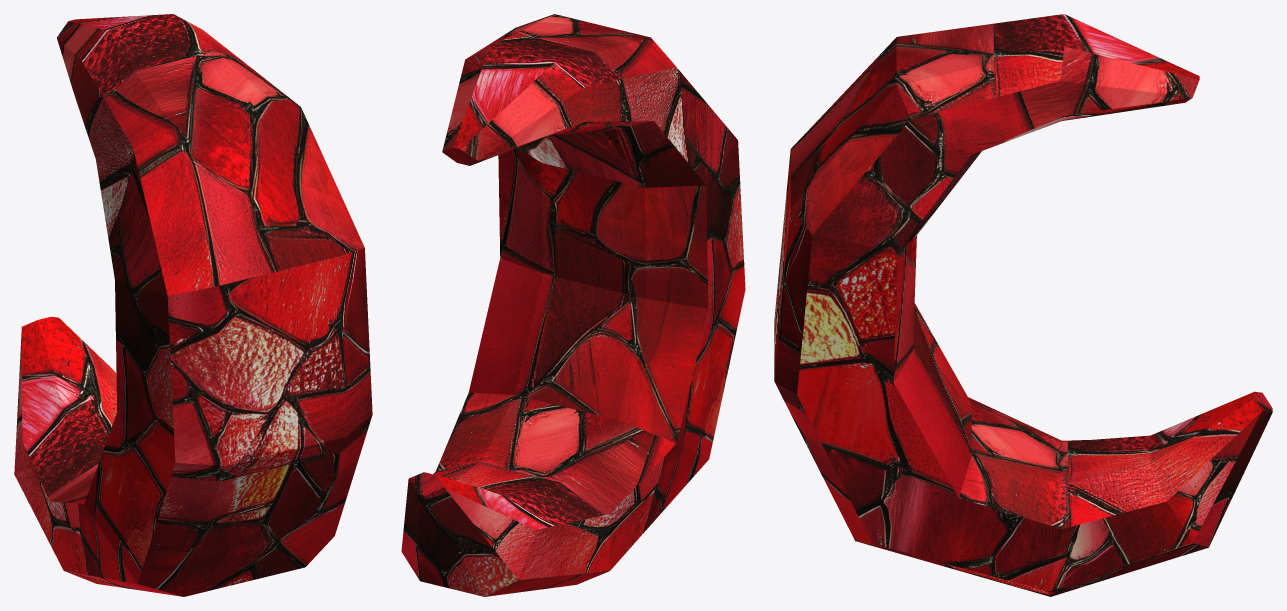
The model's file is gemstone9Red.glb.
The picture shows the model from 3 angles, left to right: view 1: azimuth 30°, elevation 25°; view 2: azimuth 150°, elevation 25°; view 3: azimuth 270°, elevation 25°; orthographic projection. The views are drawn at different scales.
Visible parts, largest first — view 1: gemstoneMoon; view 2: gemstoneMoon; view 3: gemstoneMoon.
Boxes of the visible parts, left/top/right/bottom form: gemstoneMoon: left=14, top=14, right=372, bottom=596; gemstoneMoon: left=401, top=14, right=745, bottom=596; gemstoneMoon: left=774, top=14, right=1272, bottom=596.
Bounding box in the file's own units: 0.5 × 1.2 × 1.
1 material, 1 textured.
